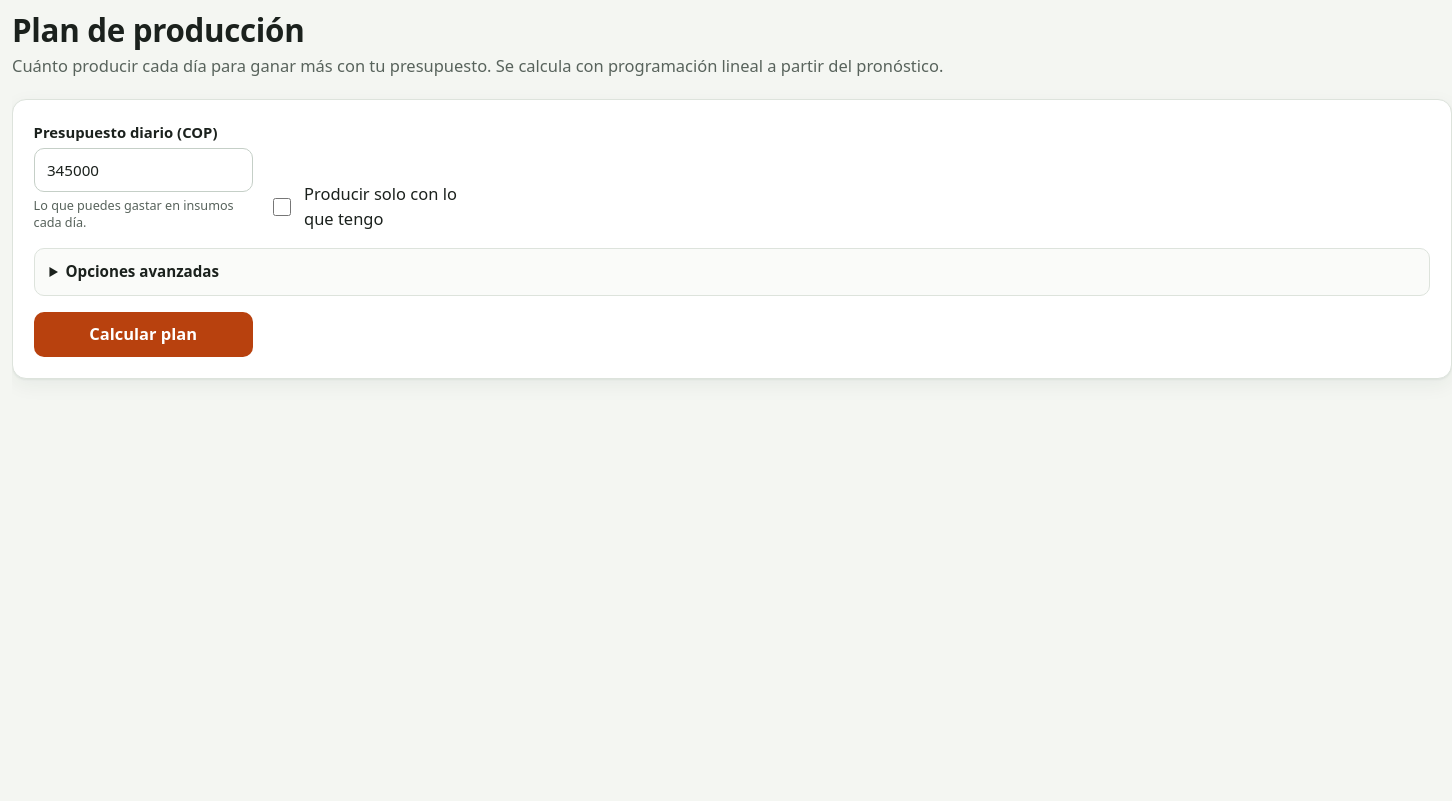
Test: CA-1, CA-3 y CA-4: presupuesto sugerido, solo con lo que tengo y lista de compras
Expected: the number field showing "345000" is shown, [34,148,253,192]
Click the checkbox labelled "Producir solo con lo que tengo": (282, 207) [273,198,291,216]
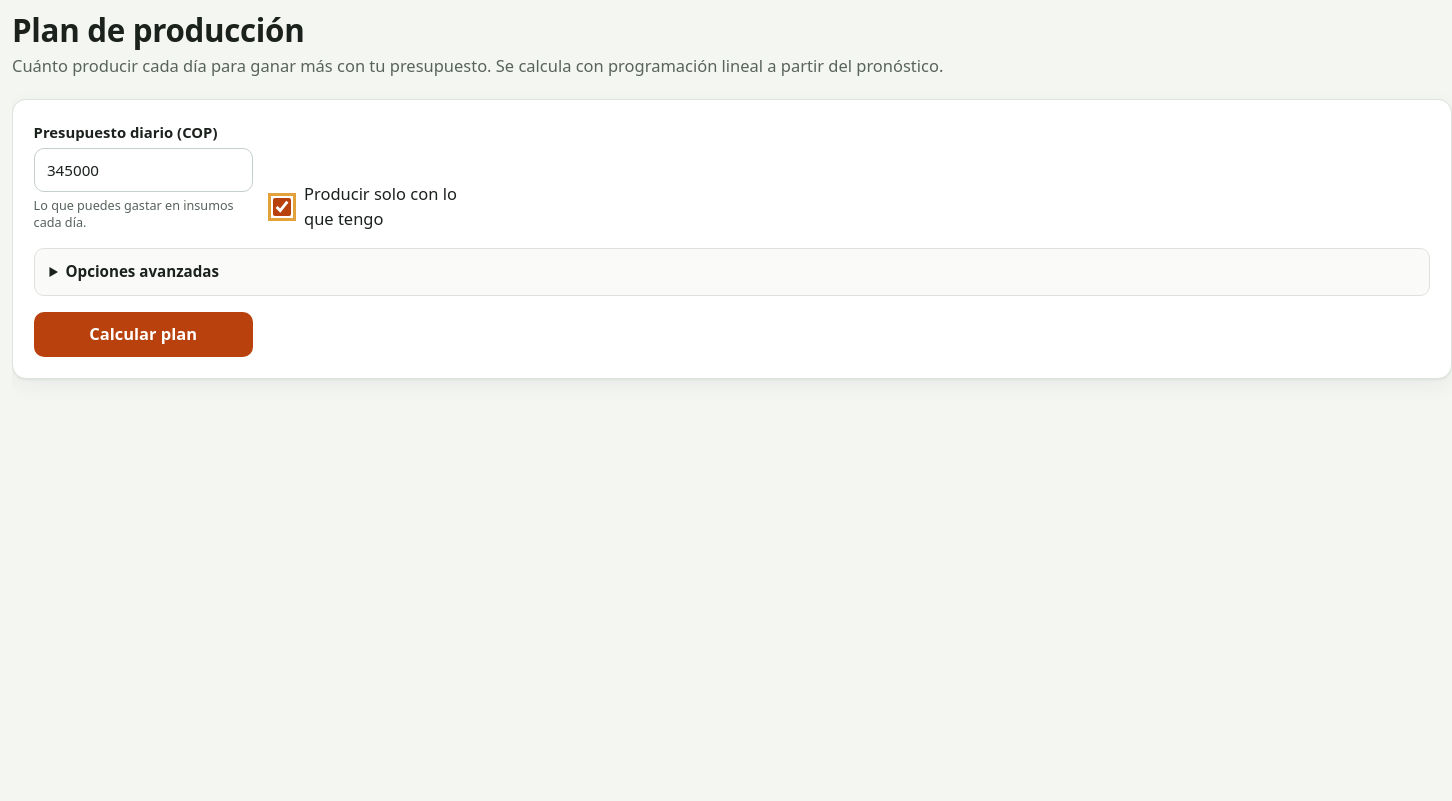
Click the button "Calcular plan": (143, 334) [34,312,253,357]
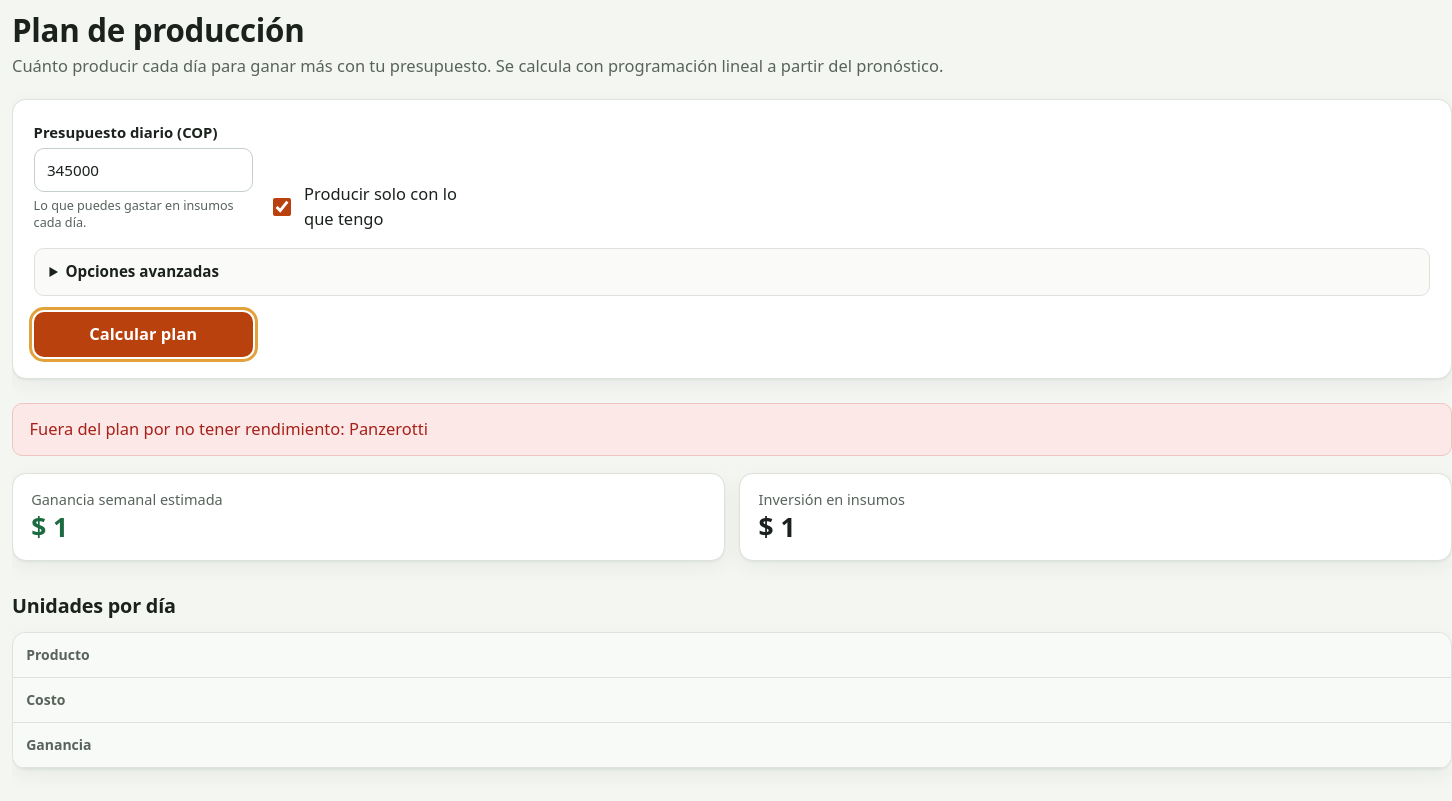
Result: the text "Fuera del plan por no tener rendimiento: Panzerotti" is shown at [12,403,1451,456]
